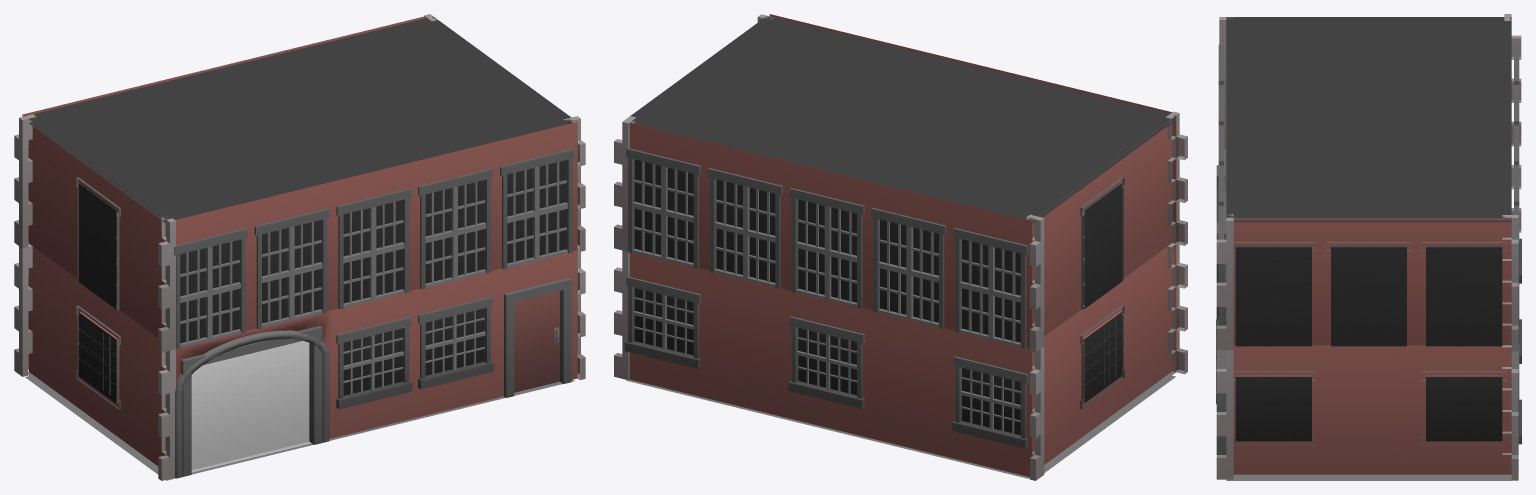
File: boiler-workshop.glb
The picture shows the model from 3 angles, left to right: view 1: azimuth 30°, elevation 25°; view 2: azimuth 150°, elevation 25°; view 3: azimuth 270°, elevation 25°; orthographic projection.
Visible parts, largest first — view 1: TreyIndustrialBoilerWorkshopVisual; view 2: TreyIndustrialBoilerWorkshopVisual; view 3: TreyIndustrialBoilerWorkshopVisual.
Boxes of the visible parts, box(x1,y1,x2,y2) form: TreyIndustrialBoilerWorkshopVisual: box(14, 14, 585, 480); TreyIndustrialBoilerWorkshopVisual: box(614, 14, 1187, 480); TreyIndustrialBoilerWorkshopVisual: box(1216, 14, 1521, 480).
Size of the model in its own units: 10.4 by 6.1 by 6.43.
Materials: 1 (1 with a texture image).
